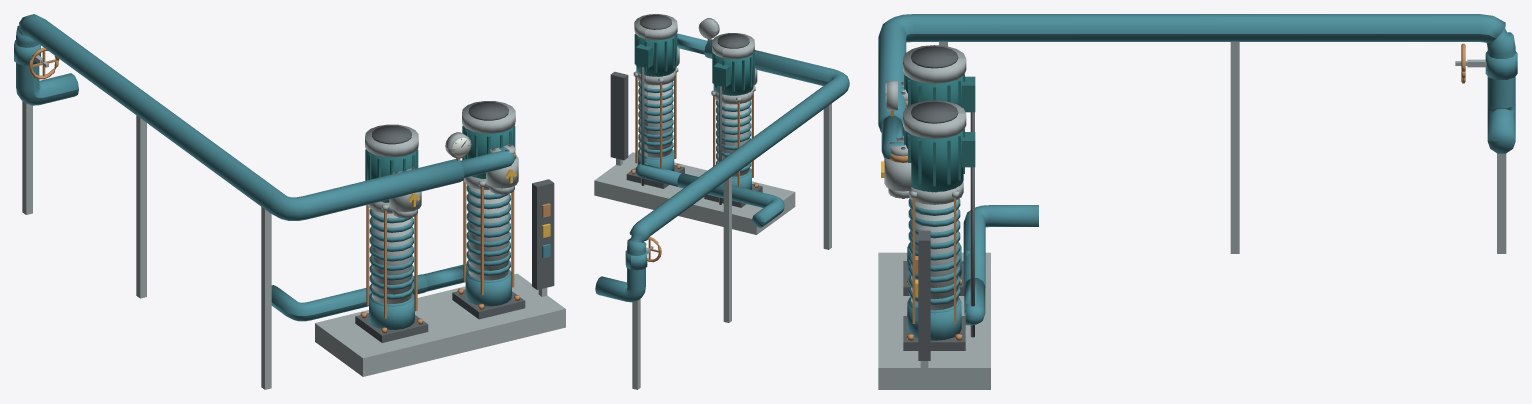
The model's file is yokocho-booster-pump-skid.glb.
The picture shows the model from 3 angles, left to right: view 1: azimuth 30°, elevation 25°; view 2: azimuth 150°, elevation 25°; view 3: azimuth 270°, elevation 25°; orthographic projection. The views are drawn at different scales.
Parts seen in each view (by area): view 1: Infrastructure/Boosters/Ground__UtilityWaterBlue, Infrastructure/Boosters/Ground__UtilityGalvanized, Infrastructure/Boosters/Ground__Iron, Infrastructure/Boosters/Ground__UtilityCopper, Infrastructure/Boosters/Ground__BoosterMotorTeal; view 2: Infrastructure/Boosters/Ground__UtilityWaterBlue, Infrastructure/Boosters/Ground__UtilityGalvanized, Infrastructure/Boosters/Ground__Iron, Infrastructure/Boosters/Ground__BoosterMotorTeal, Infrastructure/Boosters/Ground__UtilityCopper; view 3: Infrastructure/Boosters/Ground__UtilityWaterBlue, Infrastructure/Boosters/Ground__UtilityGalvanized, Infrastructure/Boosters/Ground__Iron, Infrastructure/Boosters/Ground__BoosterMotorTeal, Infrastructure/Boosters/Ground__UtilityCopper.
Boxes of the visible parts, bbox=[...] form: Infrastructure/Boosters/Ground__UtilityWaterBlue: bbox=[14, 14, 550, 329]; Infrastructure/Boosters/Ground__UtilityGalvanized: bbox=[22, 54, 565, 389]; Infrastructure/Boosters/Ground__Iron: bbox=[355, 102, 554, 342]; Infrastructure/Boosters/Ground__UtilityCopper: bbox=[28, 47, 550, 333]; Infrastructure/Boosters/Ground__BoosterMotorTeal: bbox=[365, 125, 515, 202]; Infrastructure/Boosters/Ground__UtilityWaterBlue: bbox=[595, 33, 849, 302]; Infrastructure/Boosters/Ground__UtilityGalvanized: bbox=[594, 14, 831, 389]; Infrastructure/Boosters/Ground__Iron: bbox=[610, 14, 762, 207]; Infrastructure/Boosters/Ground__BoosterMotorTeal: bbox=[634, 33, 754, 95]; Infrastructure/Boosters/Ground__UtilityCopper: bbox=[631, 39, 758, 262]; Infrastructure/Boosters/Ground__UtilityWaterBlue: bbox=[878, 14, 1517, 340]; Infrastructure/Boosters/Ground__UtilityGalvanized: bbox=[878, 42, 1506, 389]; Infrastructure/Boosters/Ground__Iron: bbox=[885, 46, 974, 360]; Infrastructure/Boosters/Ground__BoosterMotorTeal: bbox=[904, 74, 975, 192]; Infrastructure/Boosters/Ground__UtilityCopper: bbox=[889, 43, 1465, 340].
Bounding box in the file's own units: 3.91 × 2.92 × 6.36.
